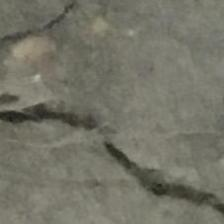Crack: (4, 93, 224, 224)
